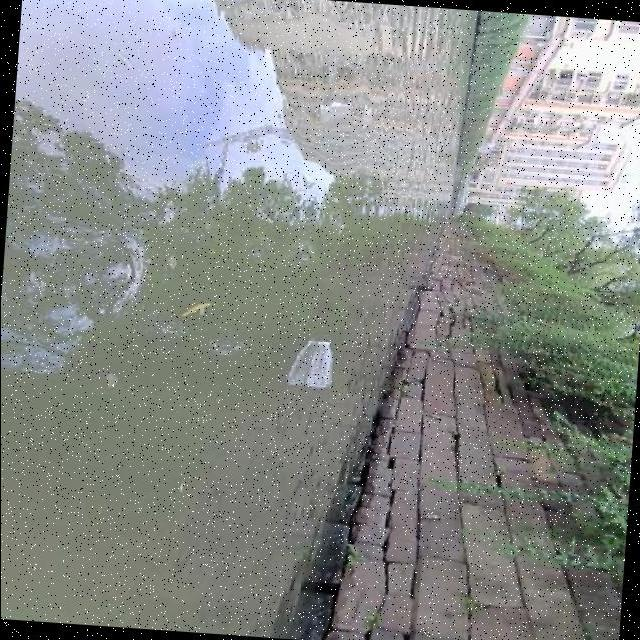Bottle: (298, 334, 338, 394)
